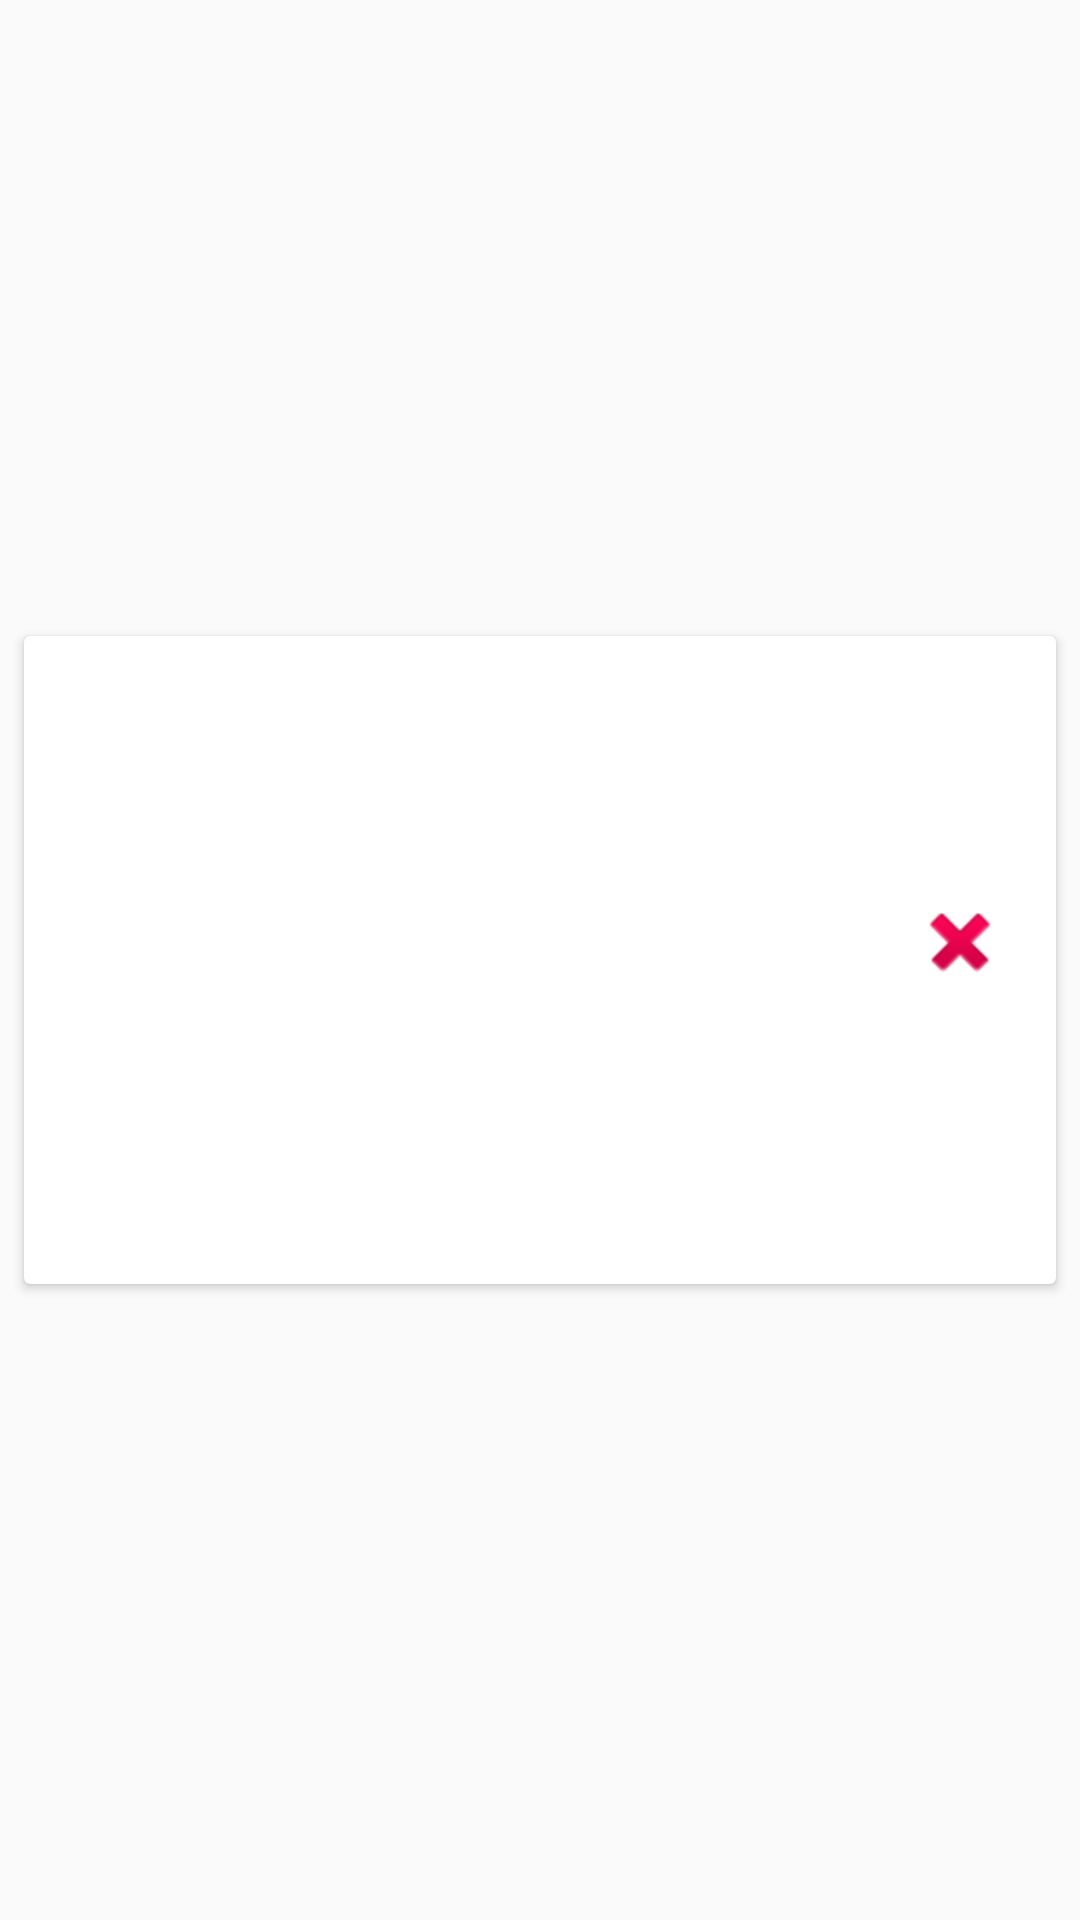

Icon click points for this 1080*1920 phone screenshot, format (x,y):
Deletar: (960,942)
